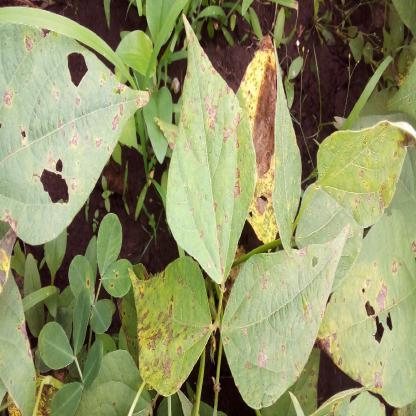Beans_Angular_LeafSpot: (3, 13, 145, 242), (167, 17, 255, 283), (225, 221, 351, 405), (320, 222, 414, 414), (131, 258, 214, 393), (318, 124, 416, 221)
